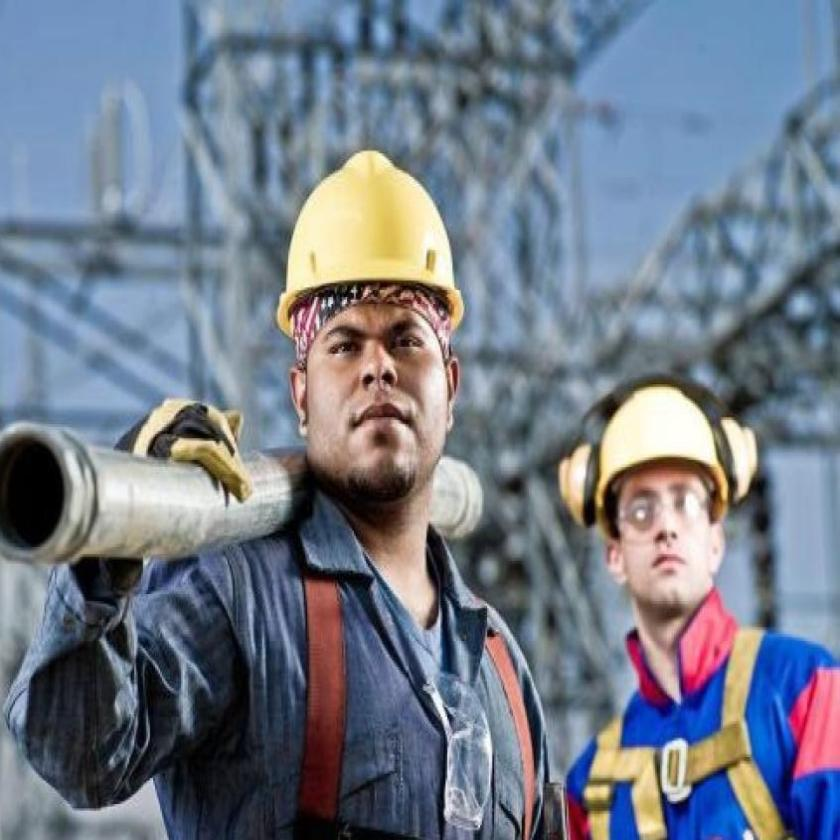Con_casco: (273, 142, 466, 563), (588, 372, 746, 653)
